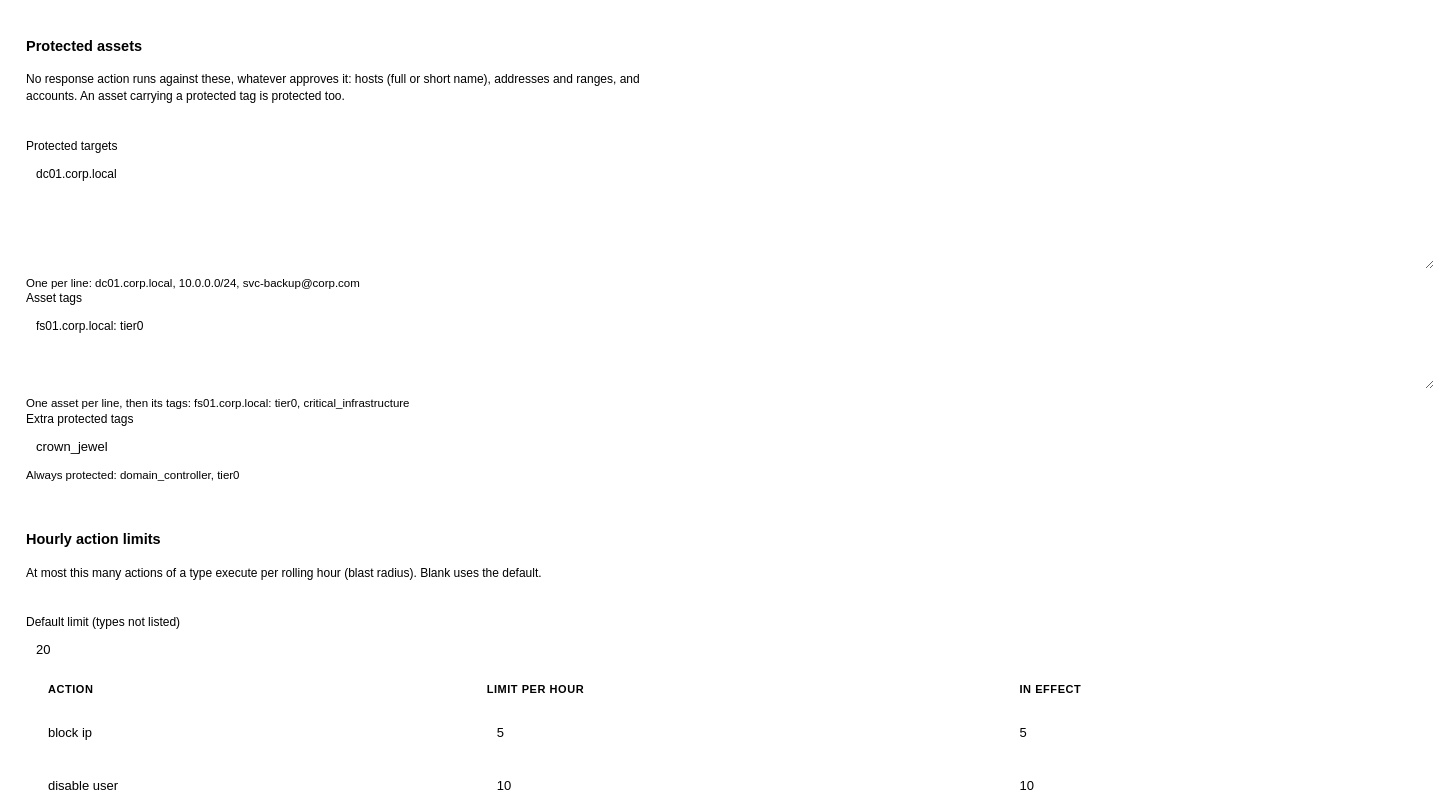
response policy section › on 409 says someone else changed it and reloads their version
This screenshot has width=1440, height=810.
Replace the text in the text box labelled "Protected targets" with "mine.corp.local". click: (730, 214)
box: [26, 159, 1434, 269]
(page scrolled)
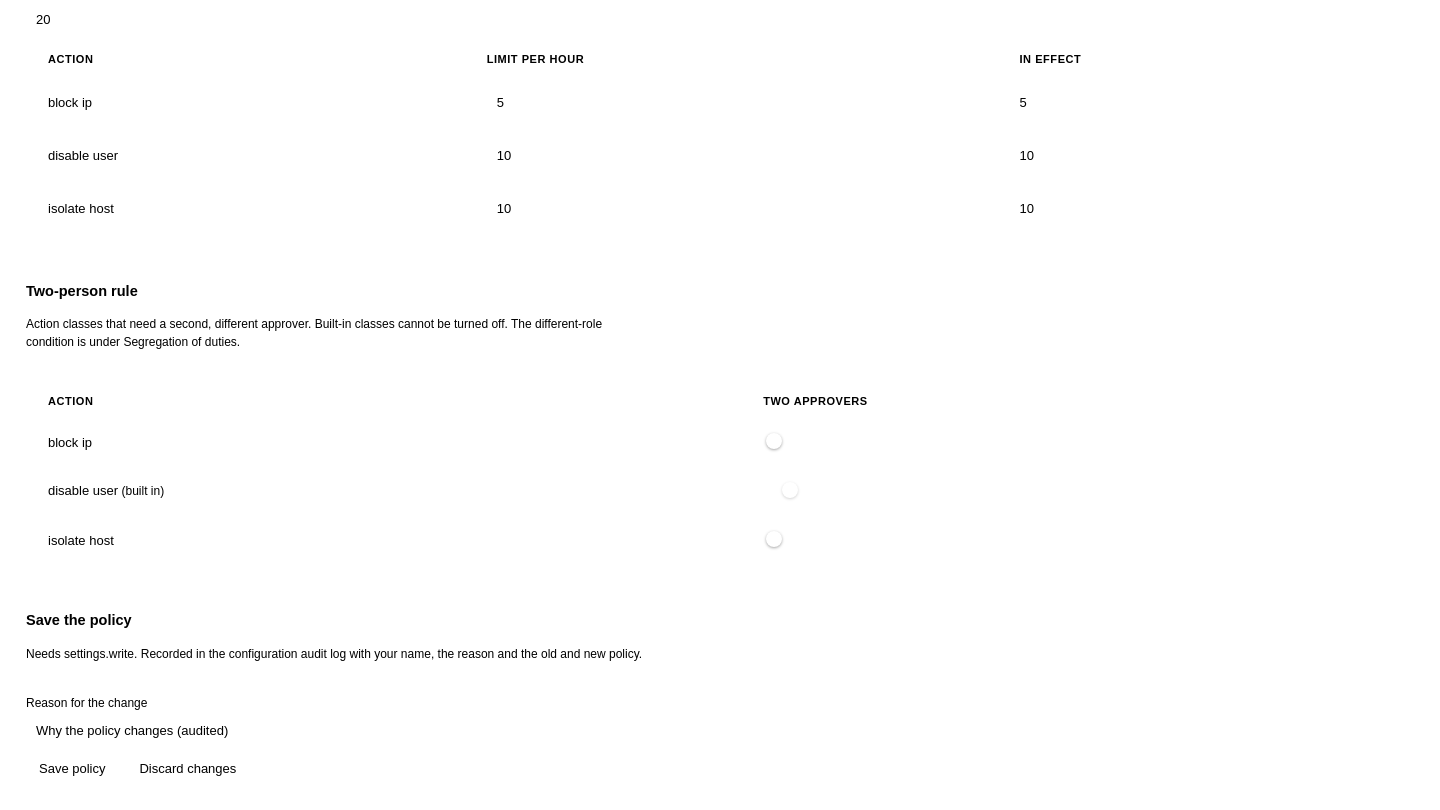
Type "x" into the field with placeholder "Why the policy changes (audited)". click: (730, 731)
box: [26, 716, 1434, 745]
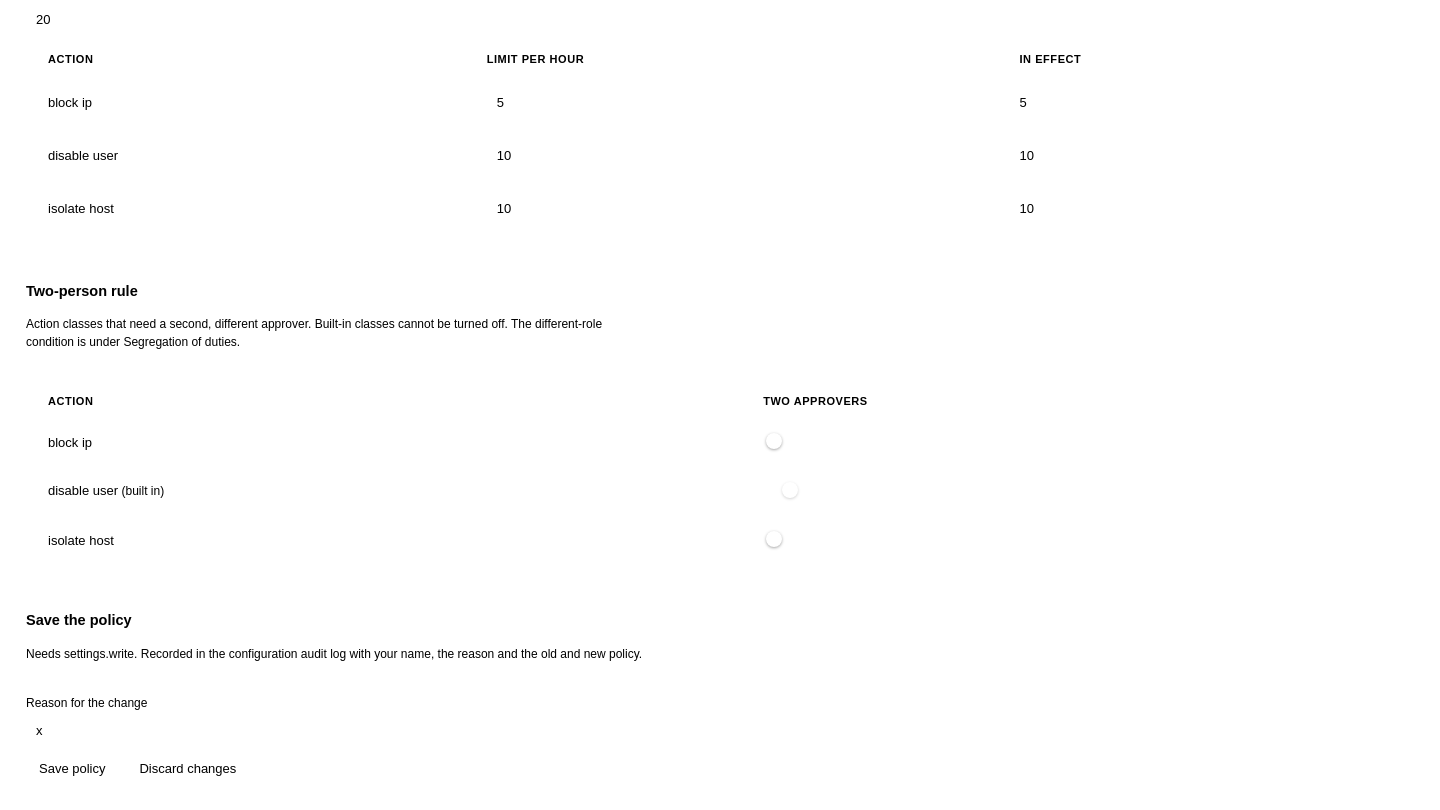
Click the button "Save policy". click: (72, 769)
box: [26, 753, 118, 784]
(page scrolled)
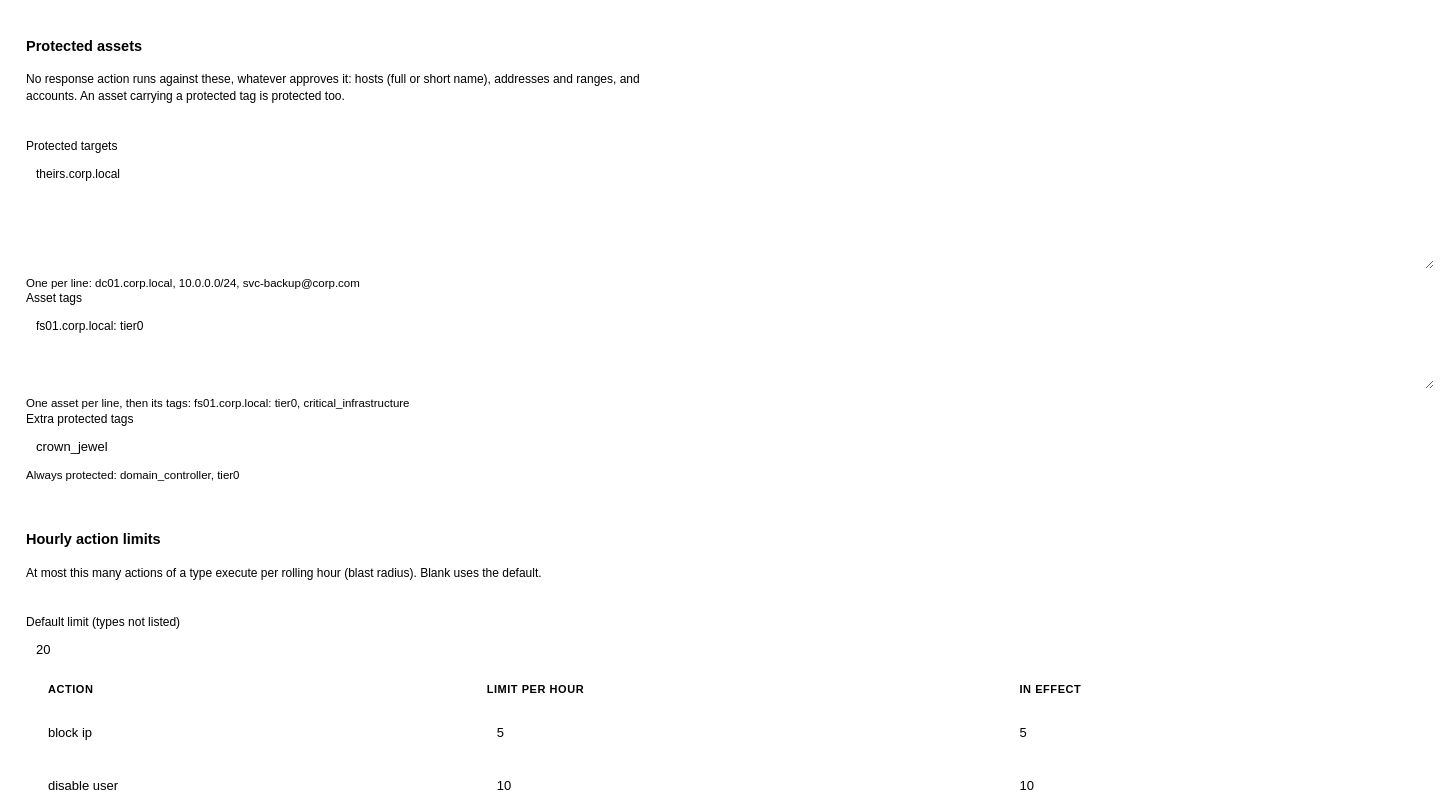
Expected: the text box labelled "Protected targets" holds "theirs.corp.local", [26, 159, 1434, 269]
